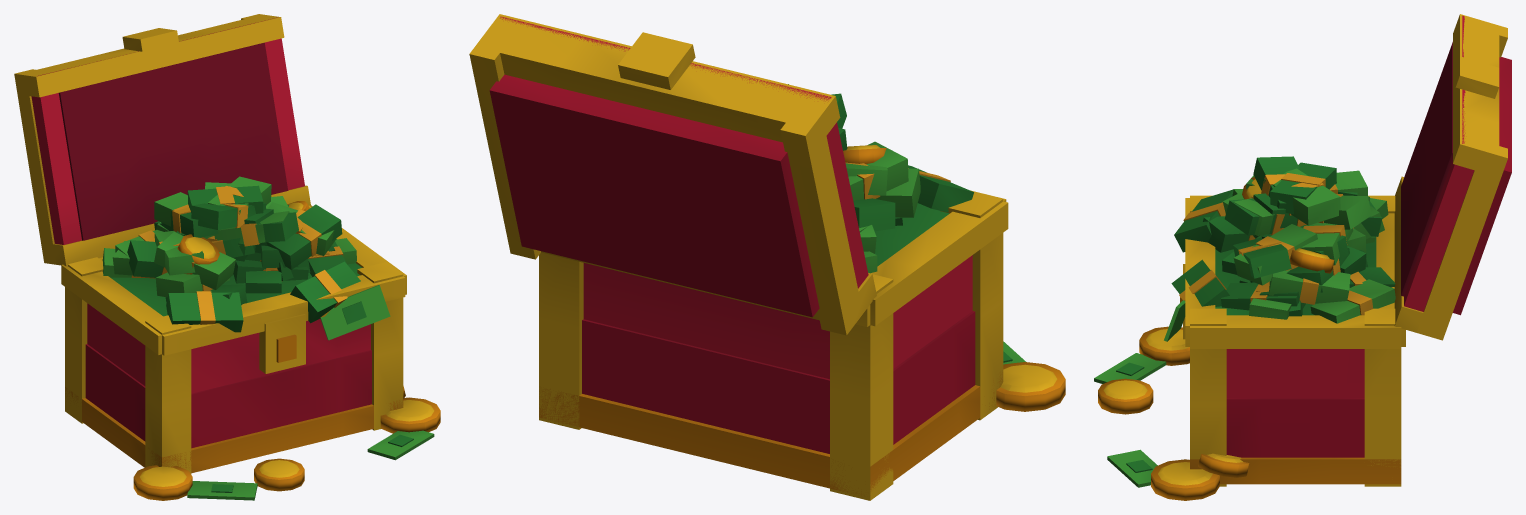
Rendered from CashChest.fbx.
3 views of the same model, side by side, from view 1: azimuth 30°, elevation 25°; view 2: azimuth 150°, elevation 25°; view 3: azimuth 270°, elevation 25° (orthographic). The views are drawn at different scales.
Parts seen in each view (by area): view 1: CashChest; view 2: CashChest; view 3: CashChest.
Boxes of the visible parts, x1=… form: CashChest: x1=14, y1=14, x2=440, y2=500; CashChest: x1=469, y1=14, x2=1065, y2=500; CashChest: x1=1094, y1=14, x2=1511, y2=500.
Bounding box in the file's own units: 8.35 × 8.56 × 9.09.
